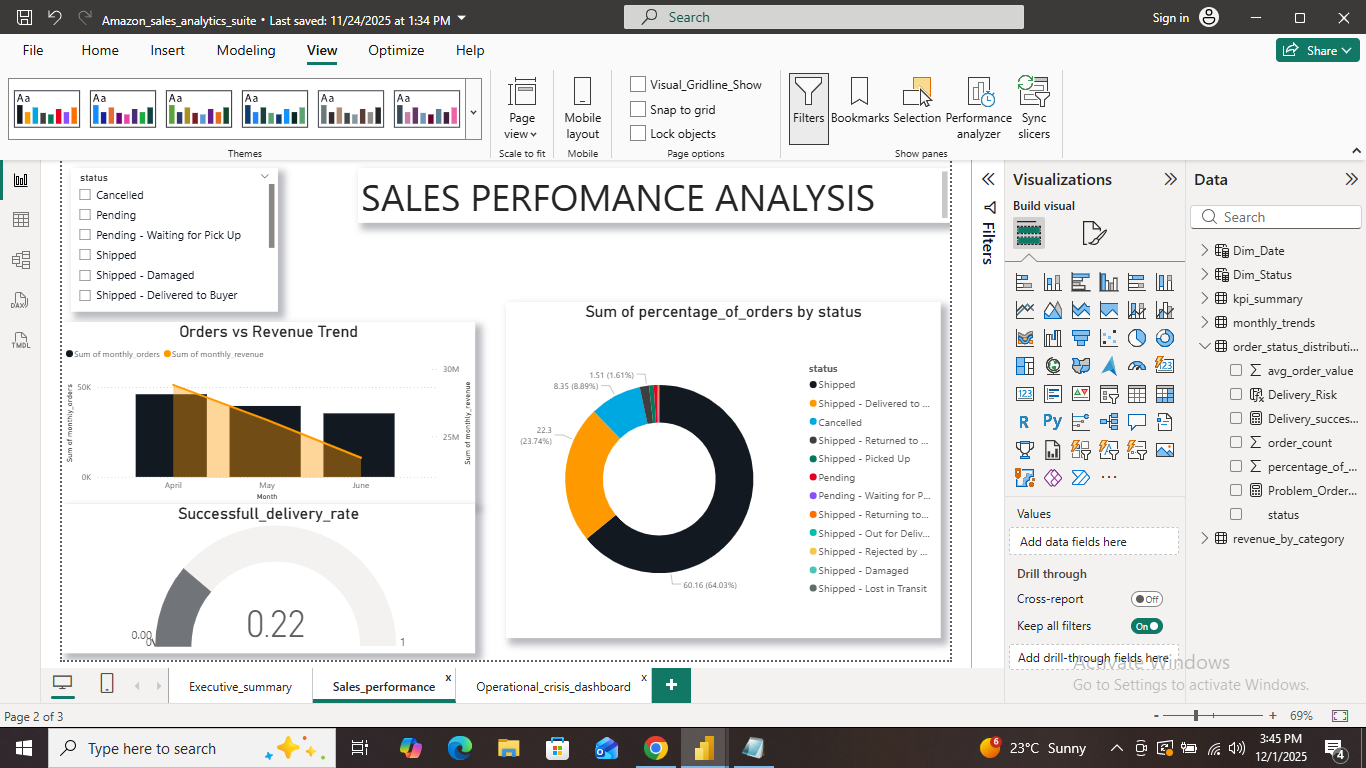

The dashboard page shown, as its layout file describes it:
{"tool":"powerbi","page":{"name":"Sales_performance","canvas":[1280,720],"ordinal":1},"visuals":[{"type":"textbox","box":[0,0,450.7,597.6],"z":1000},{"type":"textbox","box":[426.2,11.5,853.9,79.2],"z":2000},{"type":"slicer","fields":{"Values":["order_status_distribution.status"]},"box":[13,11.5,298.1,207.4],"z":5000},{"type":"donutChart","fields":{"Category":["order_status_distribution.status"],"Y":["Sum(order_status_distribution.percentage_of_orders)"]},"box":[639.4,204.5,626.4,483.8],"z":6000},{"type":"lineClusteredColumnComboChart","title":"Orders vs Revenue Trend","fields":{"Category":["monthly_trends.order_month.Variation.Date Hierarchy.Month","monthly_trends.order_month.Variation.Date Hierarchy.Day"],"Y":["Sum(monthly_trends.monthly_orders)"],"Y2":["Sum(monthly_trends.monthly_revenue)"]},"box":[0,233.3,594.7,262.1],"z":7000},{"type":"gauge","title":"Successfull_delivery_rate","fields":{"Y":["kpi_summary.Delivery_rate"],"MaxValue":["kpi_summary.Max"],"MinValue":["kpi_summary.Min"]},"box":[0,495.4,594.7,214.6],"z":8000}]}

Visuals, with their boxes on the page's 1280x720 design canvas (x1, y1, x2, y2). These are canvas units, not pixel positions in the 1366x768 screenshot, which may show the page scaled, cropped or inside an application window:
textbox: [0, 0, 451, 598]
textbox: [426, 12, 1280, 91]
slicer - order_status_distribution.status: [13, 12, 311, 219]
donutChart - order_status_distribution.status x Sum(order_status_distribution.percentage_of_orders): [639, 204, 1266, 688]
"Orders vs Revenue Trend" lineClusteredColumnComboChart: [0, 233, 595, 495]
"Successfull_delivery_rate" gauge: [0, 495, 595, 710]
